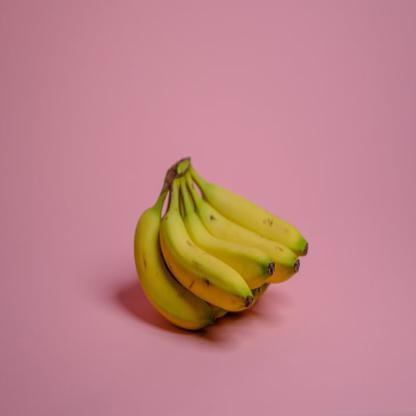banana: (121, 137, 315, 341)
